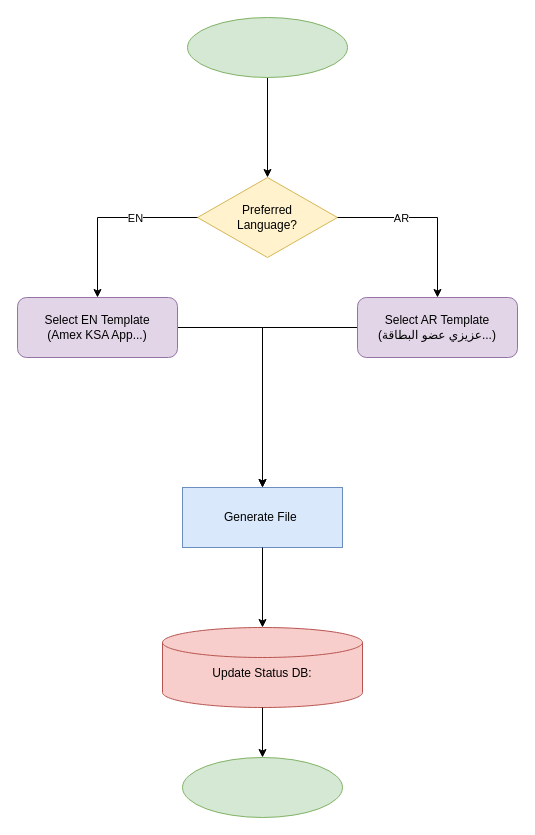
This 535x835 diagram has some shape labels left out. Each missing label, with the centre of its shape:
"End Process" goes at (262,787).
"Start: Annual Fee Renewal SMS Sent" goes at (267,47).
